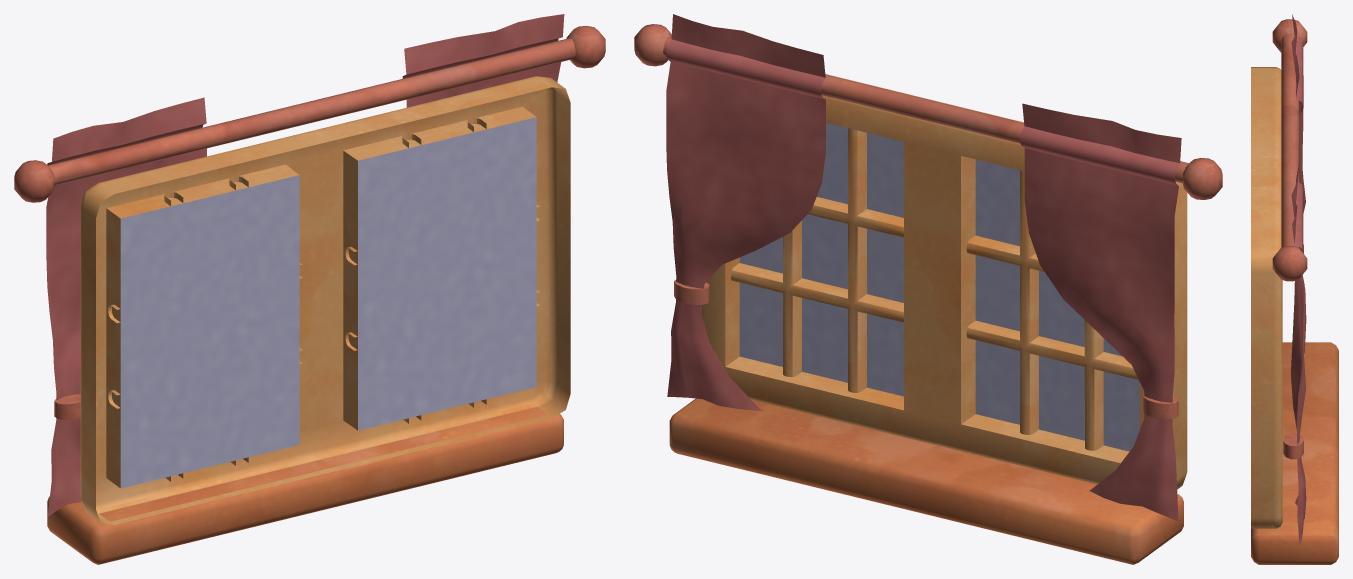
Rendered from SM_Large_Window.fbx.
3 views of the same model, side by side, from view 1: azimuth 30°, elevation 25°; view 2: azimuth 150°, elevation 25°; view 3: azimuth 270°, elevation 25° (orthographic). The views are drawn at different scales.
Visible parts, largest first — view 1: SM_Large_Window; view 2: SM_Large_Window; view 3: SM_Large_Window.
Boxes of the visible parts, bbox=[...] form: SM_Large_Window: bbox=[14, 14, 605, 564]; SM_Large_Window: bbox=[634, 14, 1222, 564]; SM_Large_Window: bbox=[1251, 14, 1338, 564].
Bounding box in the file's own units: 370 × 253 × 57.16.
